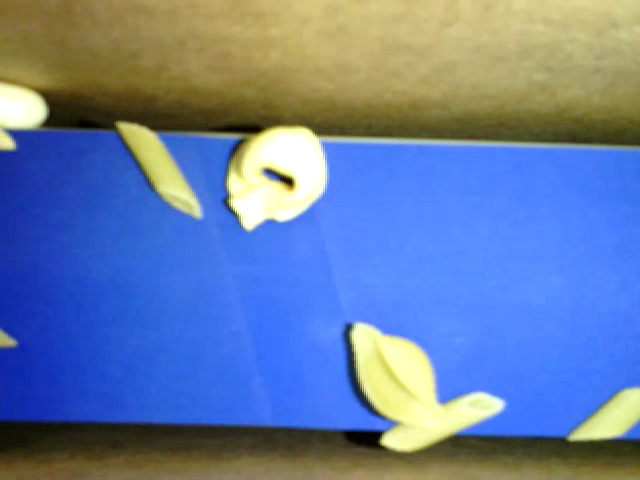penne: (117, 121, 204, 219), (379, 389, 505, 454), (568, 386, 639, 442)
shell: (348, 321, 438, 423)
tortellini: (227, 126, 329, 232)
